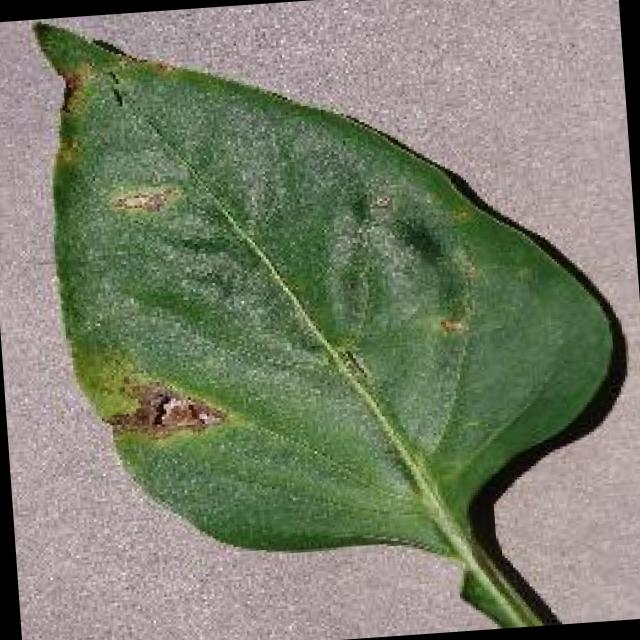Chilli_Bacterial_Spot: (25, 0, 640, 640), (306, 179, 482, 358), (99, 374, 228, 446), (102, 177, 185, 222), (142, 386, 210, 435), (432, 310, 469, 340), (361, 186, 395, 216)
